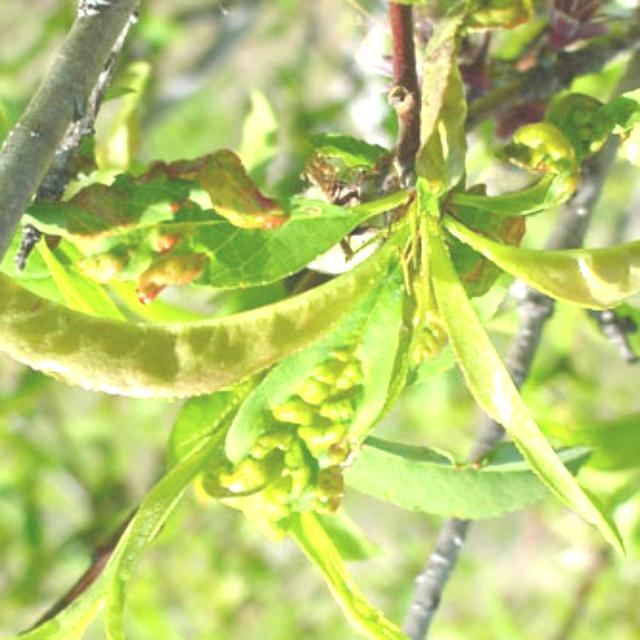leaf_curl: (0, 138, 328, 316), (200, 322, 403, 556)
